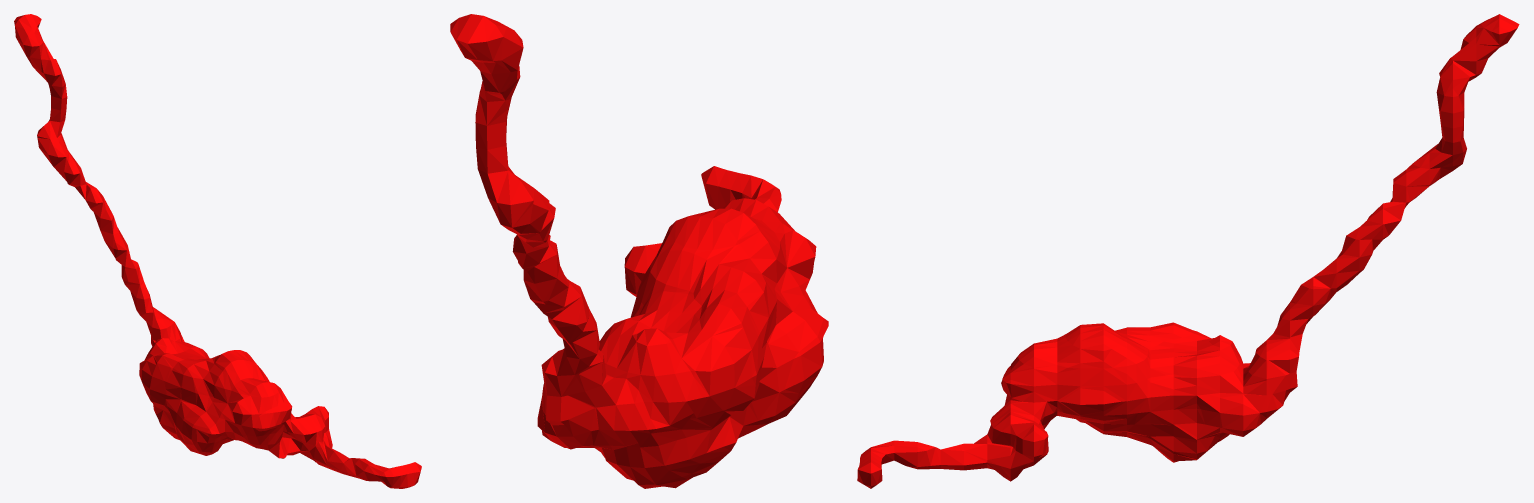
The model's file is yicH_coarse.dae.
The picture shows the model from 3 angles, left to right: view 1: azimuth 30°, elevation 25°; view 2: azimuth 150°, elevation 25°; view 3: azimuth 270°, elevation 25°; orthographic projection. The views are drawn at different scales.
Visible parts, largest first — view 1: yicH; view 2: yicH; view 3: yicH.
Part boxes in pixels (left/top/right/bottom): yicH: left=14, top=14, right=421, bottom=488; yicH: left=450, top=14, right=828, bottom=488; yicH: left=857, top=14, right=1519, bottom=488.
Size of the model in its own units: 77.86 by 164 by 234.
